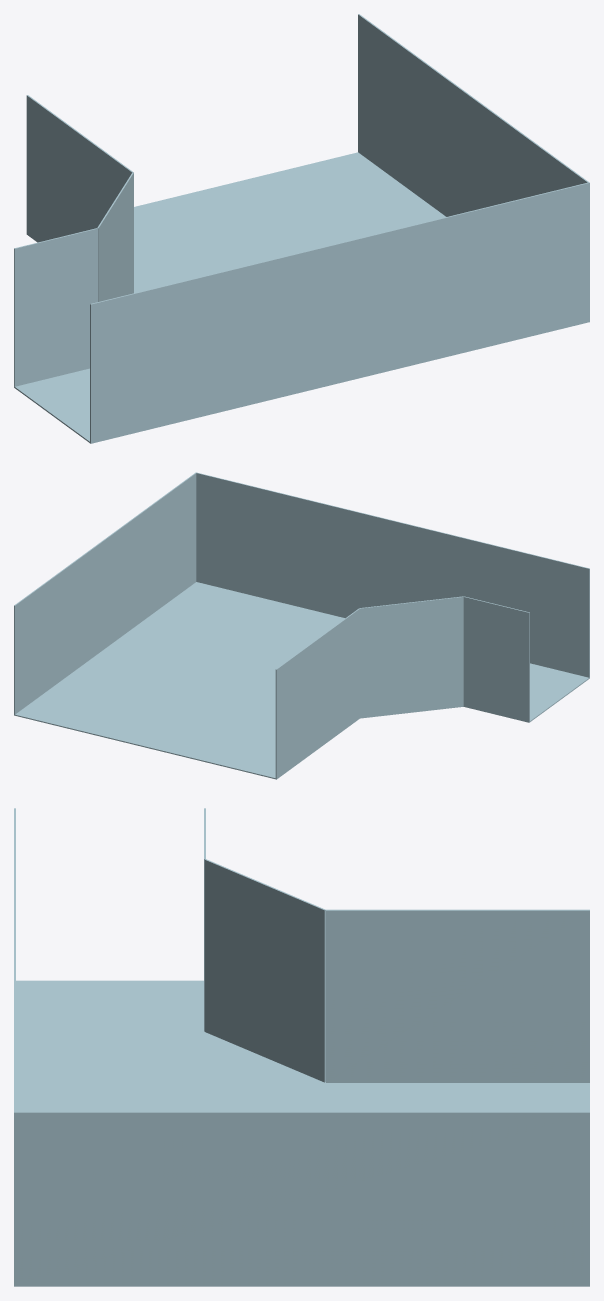
The picture shows the model from 3 angles, top to bottom: view 1: azimuth 30°, elevation 25°; view 2: azimuth 150°, elevation 25°; view 3: azimuth 270°, elevation 25°; orthographic projection. The views are drawn at different scales.
Parts seen in each view (by area): view 1: L2-C01; view 2: L2-C01; view 3: L2-C01.
Boxes of the visible parts, box(x1,y1,x2,y2) form: L2-C01: box(14, 14, 589, 443); L2-C01: box(14, 472, 589, 779); L2-C01: box(14, 808, 589, 1286).
Size of the model in its own units: 0.75 by 0.2 by 0.6.
